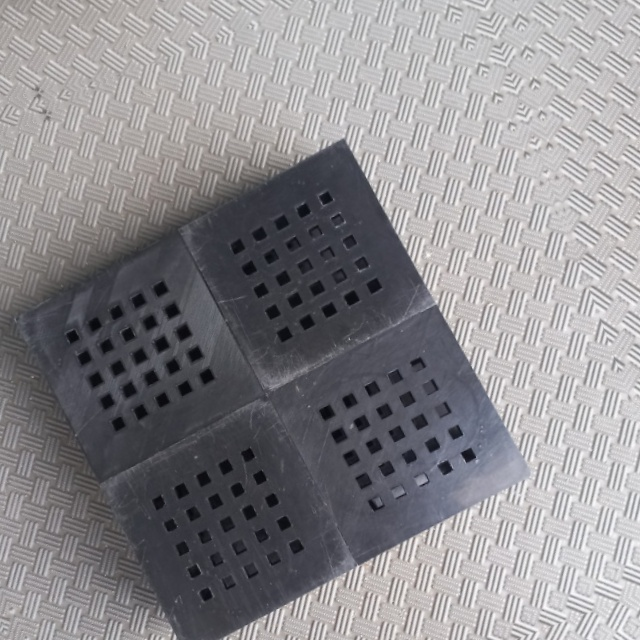pallet: (8, 129, 545, 640)
